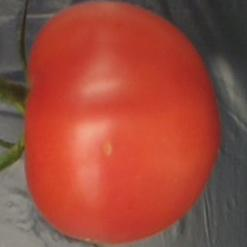unripe: (3, 0, 228, 247)
